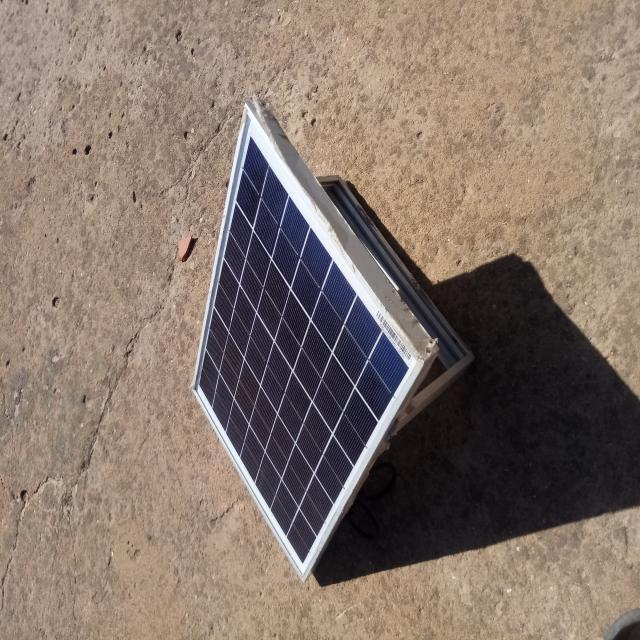no faulty: (192, 111, 426, 585)
